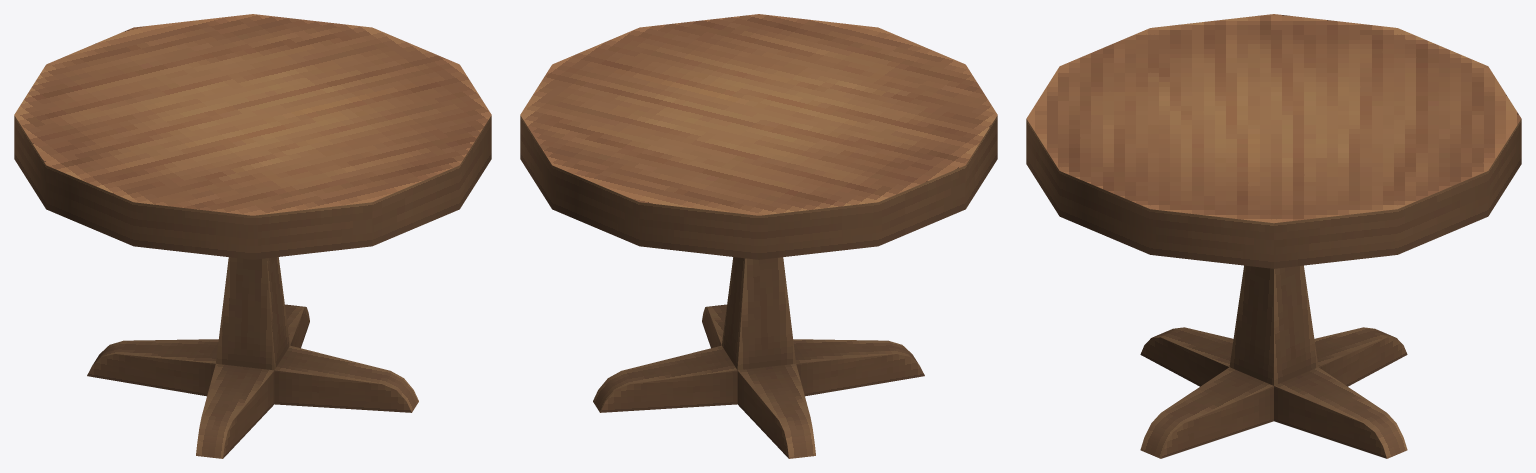
The model's file is Wooden Table 1.fbx.
3 views of the same model, side by side, from view 1: azimuth 30°, elevation 25°; view 2: azimuth 150°, elevation 25°; view 3: azimuth 270°, elevation 25° (orthographic). The views are drawn at different scales.
Parts seen in each view (by area): view 1: obj_table_001; view 2: obj_table_001; view 3: obj_table_001.
Boxes of the visible parts, box(x1,y1,x2,y2) form: obj_table_001: box(14, 14, 491, 458); obj_table_001: box(520, 14, 997, 458); obj_table_001: box(1026, 14, 1521, 458).
Bounding box in the file's own units: 0.9822 × 0.6214 × 0.9822.
